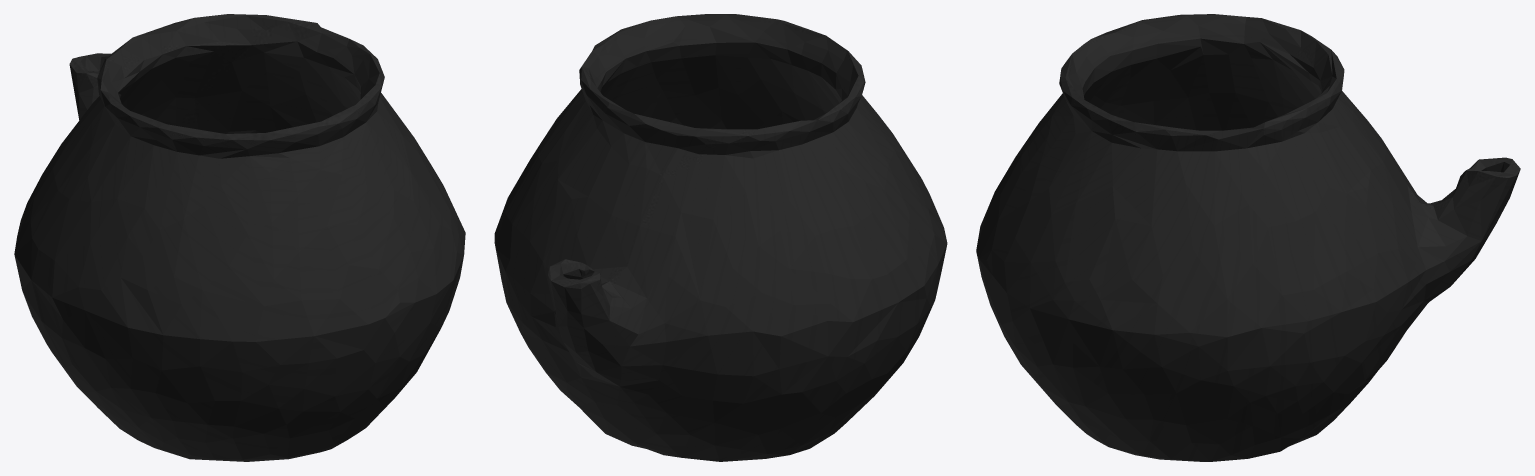
File: Yaktanggi.fbx
The picture shows the model from 3 angles, left to right: view 1: azimuth 30°, elevation 25°; view 2: azimuth 150°, elevation 25°; view 3: azimuth 270°, elevation 25°; orthographic projection.
Visible parts, largest first — view 1: 약탕관_1; view 2: 약탕관_1; view 3: 약탕관_1.
Part boxes in pixels (left/top/right/bottom): 약탕관_1: left=14, top=14, right=465, bottom=461; 약탕관_1: left=494, top=14, right=947, bottom=461; 약탕관_1: left=976, top=14, right=1520, bottom=461.
Bounding box in the file's own units: 482 × 403 × 579.
Materials: 1 (1 with a texture image).
